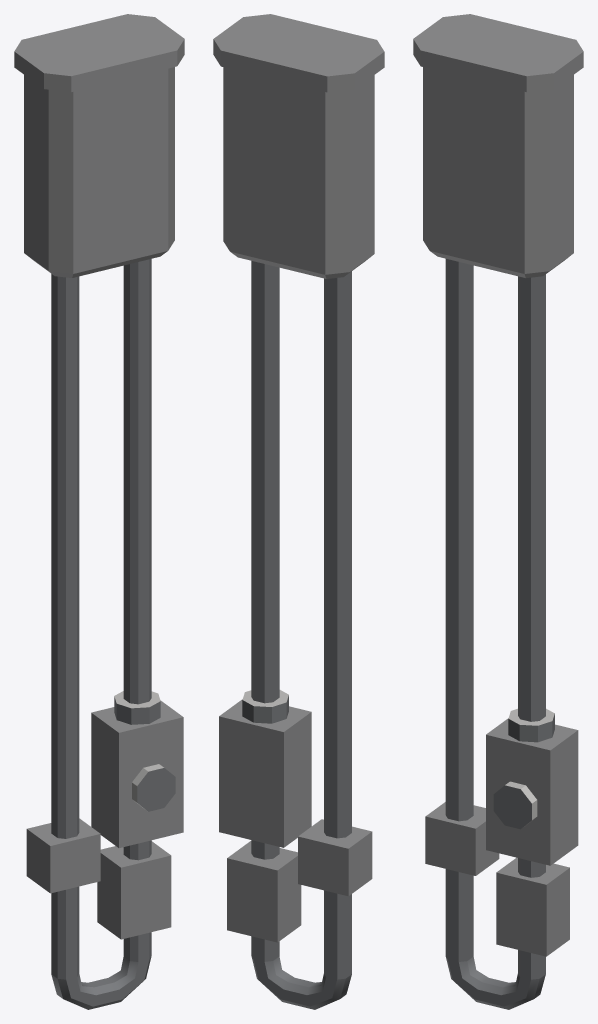
The model's file is obj_drain.fbx.
The picture shows the model from 3 angles, left to right: view 1: azimuth 30°, elevation 25°; view 2: azimuth 150°, elevation 25°; view 3: azimuth 330°, elevation 25°; orthographic projection.
Visible parts, largest first — view 1: obj_drain; view 2: obj_drain; view 3: obj_drain.
Part boxes in pixels (x1,y1,x2,y2): obj_drain: [14, 14, 184, 1009]; obj_drain: [213, 14, 384, 1009]; obj_drain: [413, 14, 583, 1009].
Bounding box in the file's own units: 0.4467 × 2.9 × 0.2732.
Materials: 1 (1 with a texture image).
